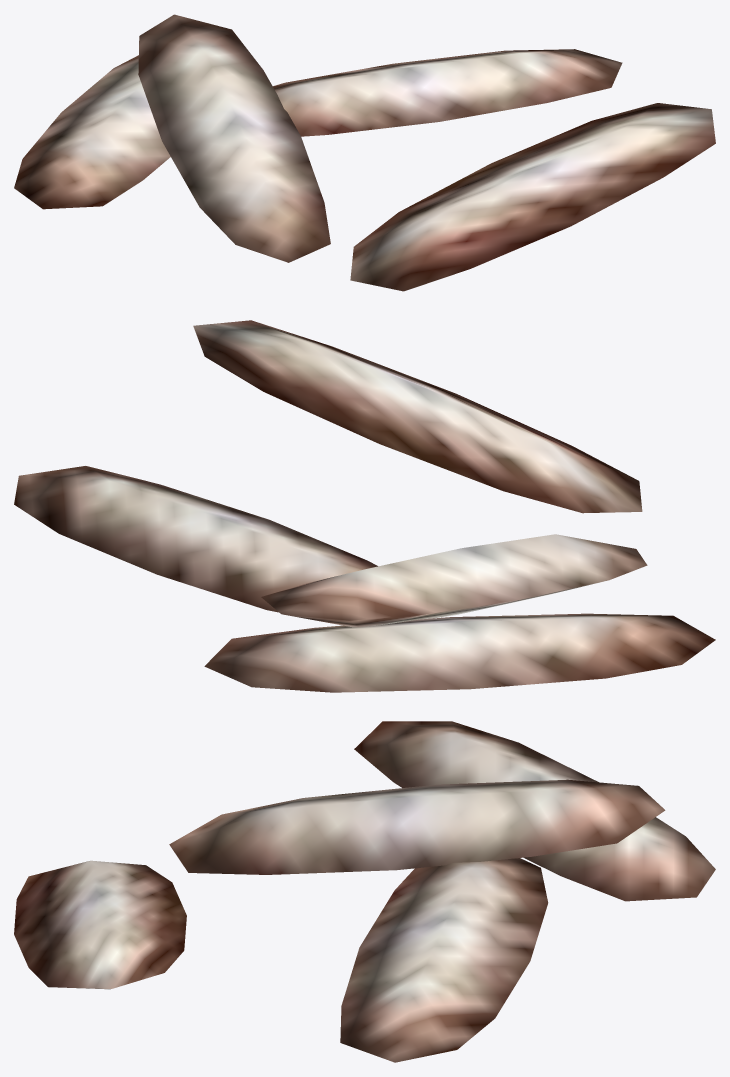
Rendered from KM_SEEDS_04.glb.
3 renders of one model, top to bottom at view 1: azimuth 30°, elevation 25°; view 2: azimuth 150°, elevation 25°; view 3: azimuth 270°, elevation 25°, orthographic. The views are drawn at different scales.
Visible parts, largest first — view 1: Mesh; view 2: Mesh; view 3: Mesh.
Part boxes in pixels (x1,y1,x2,y2): Mesh: (14,14,715,291); Mesh: (14,320,715,692); Mesh: (14,721,715,1062).
Bounding box in the file's own units: 0.3483 × 0.0488 × 0.3026.
1 material, 1 textured.
